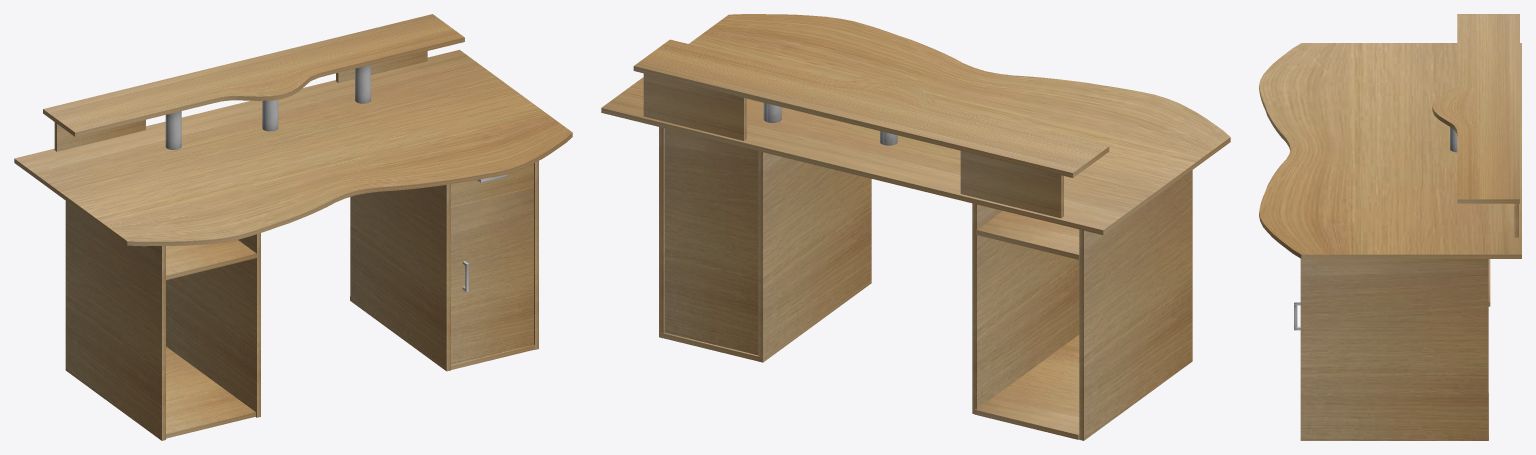
Rendered from Biurko.fbx.
3 renders of one model, left to right at view 1: azimuth 30°, elevation 25°; view 2: azimuth 150°, elevation 25°; view 3: azimuth 270°, elevation 25°, orthographic. The views are drawn at different scales.
Visible parts, largest first — view 1: BLAT, Box006, Półka, Box004, Box007, Box005, Box009, Box011, Box008, Box013, Box010, Box003 (+3 smaller); view 2: BLAT, Box006, Box014, Półka, Box004, Box005, Box009, Box012, Box013, Box011, Box010, Box003; view 3: BLAT, Box003, Półka.
Boxes of the visible parts, x1=… form: BLAT: x1=14, y1=50, x2=572, y2=246; Box006: x1=65, y1=201, x2=165, y2=440; Półka: x1=43, y1=14, x2=464, y2=136; Box004: x1=350, y1=184, x2=450, y2=371; Box007: x1=451, y1=187, x2=533, y2=364; Box005: x1=166, y1=233, x2=260, y2=417; Box009: x1=166, y1=346, x2=255, y2=438; Box011: x1=166, y1=240, x2=256, y2=279; Box008: x1=451, y1=163, x2=533, y2=206; Box013: x1=54, y1=120, x2=145, y2=151; Box010: x1=350, y1=296, x2=534, y2=370; Box003: x1=534, y1=161, x2=538, y2=349; BLAT: x1=601, y1=14, x2=1230, y2=234; Box006: x1=1079, y1=170, x2=1192, y2=440; Box014: x1=664, y1=128, x2=758, y2=355; Półka: x1=633, y1=39, x2=1109, y2=177; Box004: x1=758, y1=151, x2=871, y2=362; Box005: x1=972, y1=203, x2=1079, y2=414; Box009: x1=975, y1=335, x2=1079, y2=439; Box012: x1=643, y1=73, x2=746, y2=140; Box013: x1=960, y1=151, x2=1063, y2=218; Box011: x1=975, y1=211, x2=1079, y2=259; Box010: x1=659, y1=278, x2=871, y2=362; Box003: x1=659, y1=127, x2=664, y2=337; BLAT: x1=1259, y1=43, x2=1521, y2=258; Box003: x1=1300, y1=259, x2=1488, y2=440; Półka: x1=1432, y1=14, x2=1519, y2=203.
Size of the model in its own units: 160 by 86.15 by 83.86.
